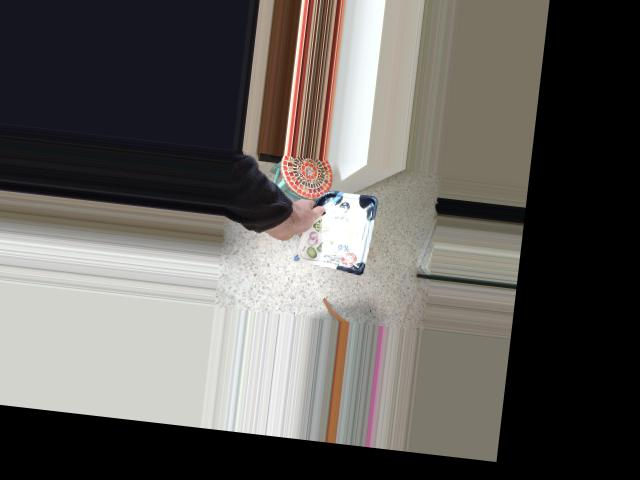cheese: (266, 183, 362, 271)
